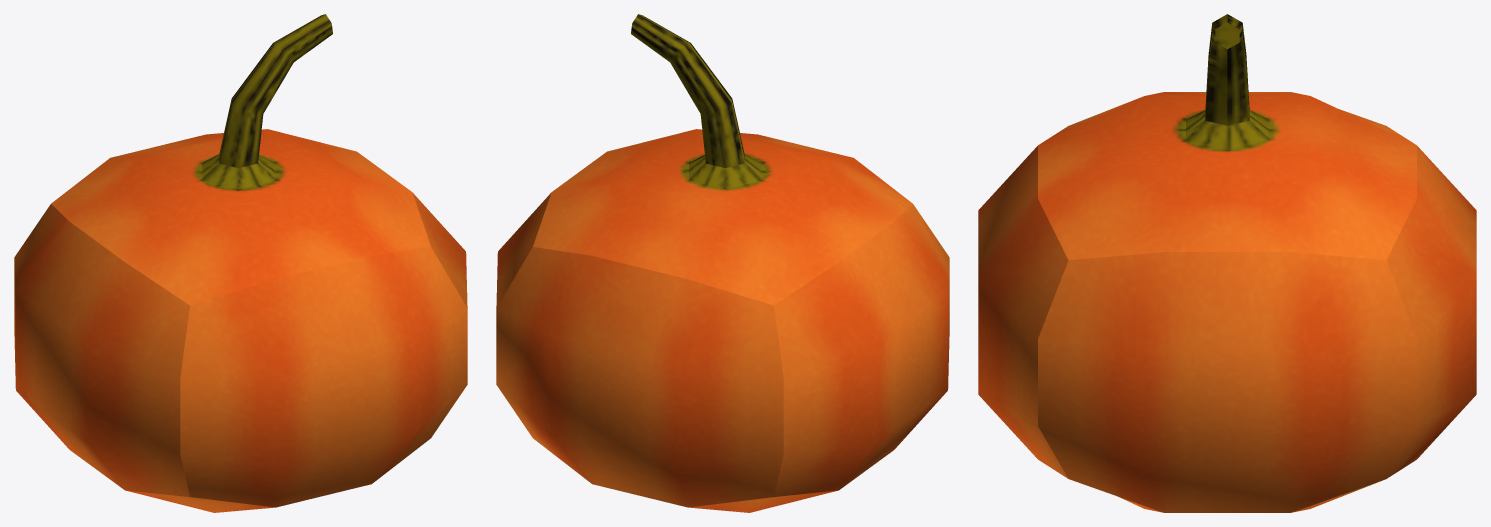
File: Pumpkin.FBX
The picture shows the model from 3 angles, left to right: view 1: azimuth 30°, elevation 25°; view 2: azimuth 150°, elevation 25°; view 3: azimuth 270°, elevation 25°; orthographic projection. The views are drawn at different scales.
Visible parts, largest first — view 1: Pumpkin_LOD0; view 2: Pumpkin_LOD0; view 3: Pumpkin_LOD0.
Boxes of the visible parts, bbox=[...] form: Pumpkin_LOD0: bbox=[14, 14, 467, 512]; Pumpkin_LOD0: bbox=[496, 14, 949, 512]; Pumpkin_LOD0: bbox=[978, 14, 1476, 512].
Size of what is drawn, in the model's own units: 91.03 by 101 by 91.03.
